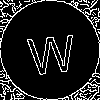W: (25, 25, 78, 76)
